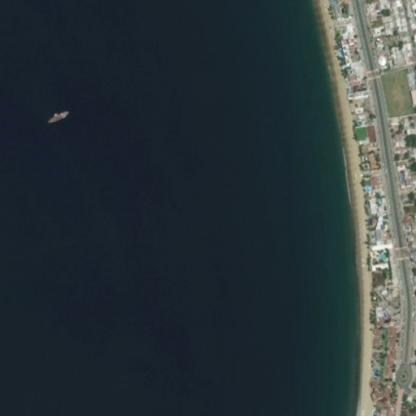ship: (39, 101, 74, 127)
